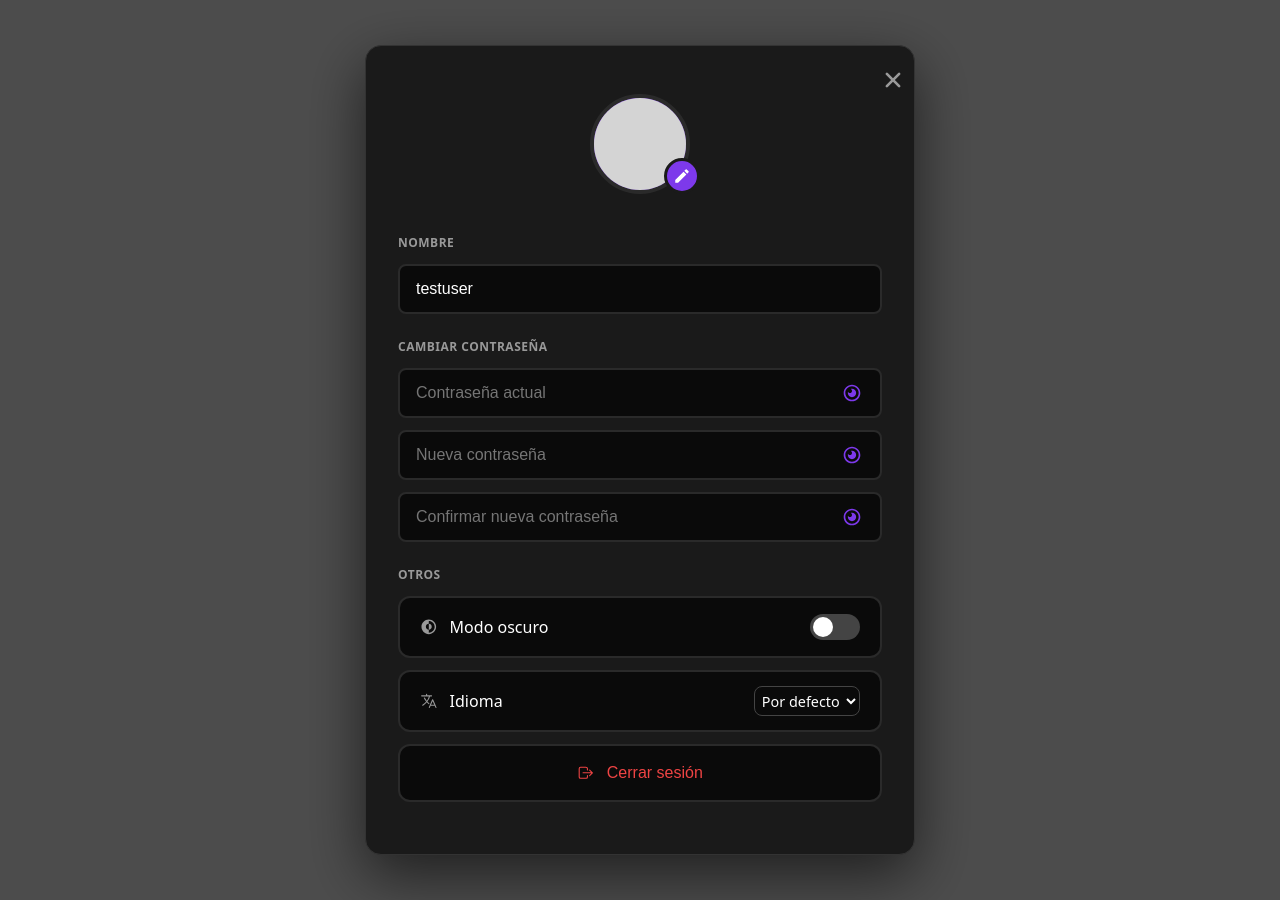
Test: UserProfileModal Component › shows error when passwords do not match
In the password field with placeholder "Contraseña actual": {"x": 640, "y": 393} x1=398 y1=368 x2=882 y2=418, type "old123"
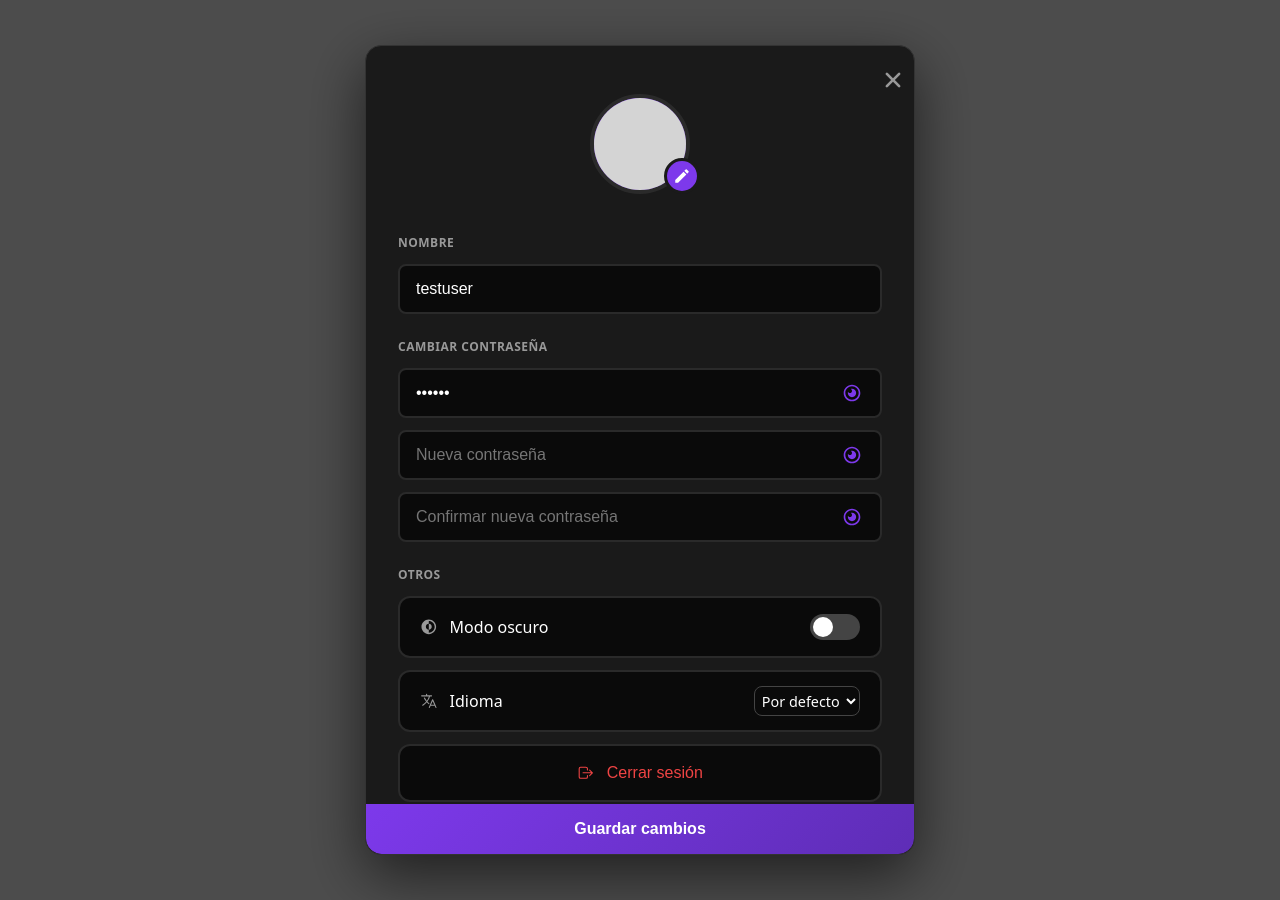
In the password field with placeholder "Nueva contraseña": {"x": 640, "y": 455} x1=398 y1=430 x2=882 y2=480, type "New1234"
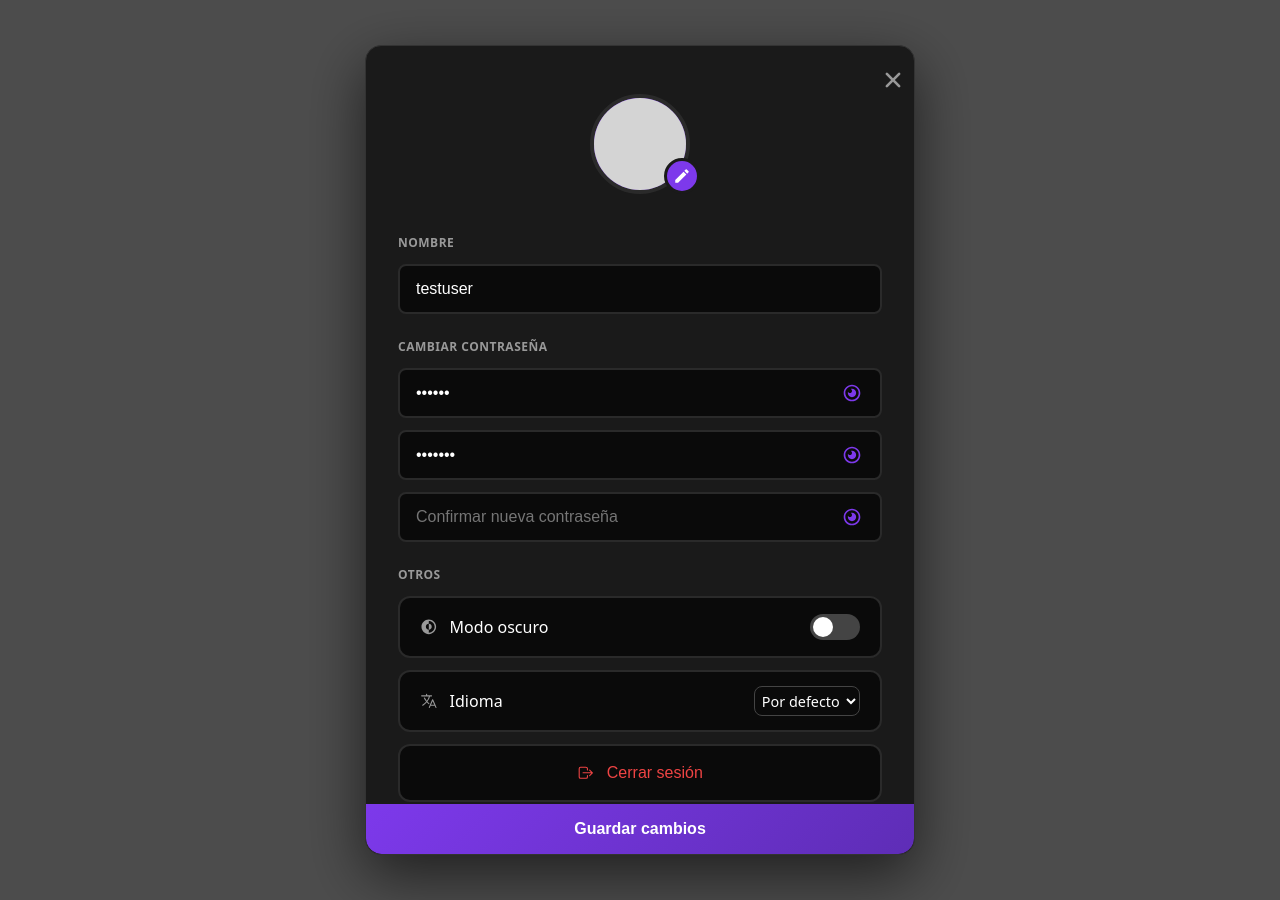
In the password field with placeholder "Confirmar nueva contraseña": {"x": 640, "y": 517} x1=398 y1=492 x2=882 y2=542, type "New4321"
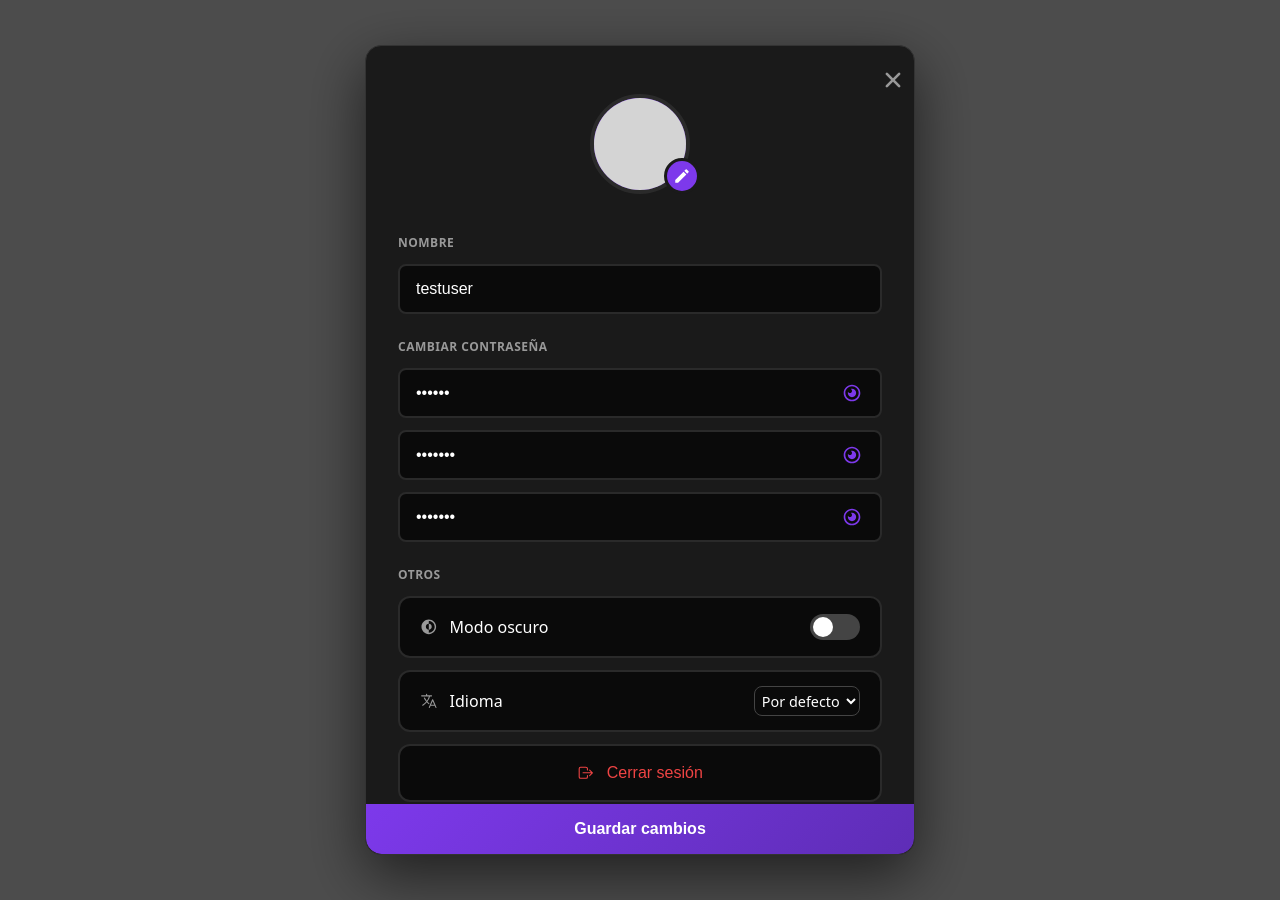
Click the button "Guardar cambios": {"x": 640, "y": 829} x1=366 y1=804 x2=914 y2=854
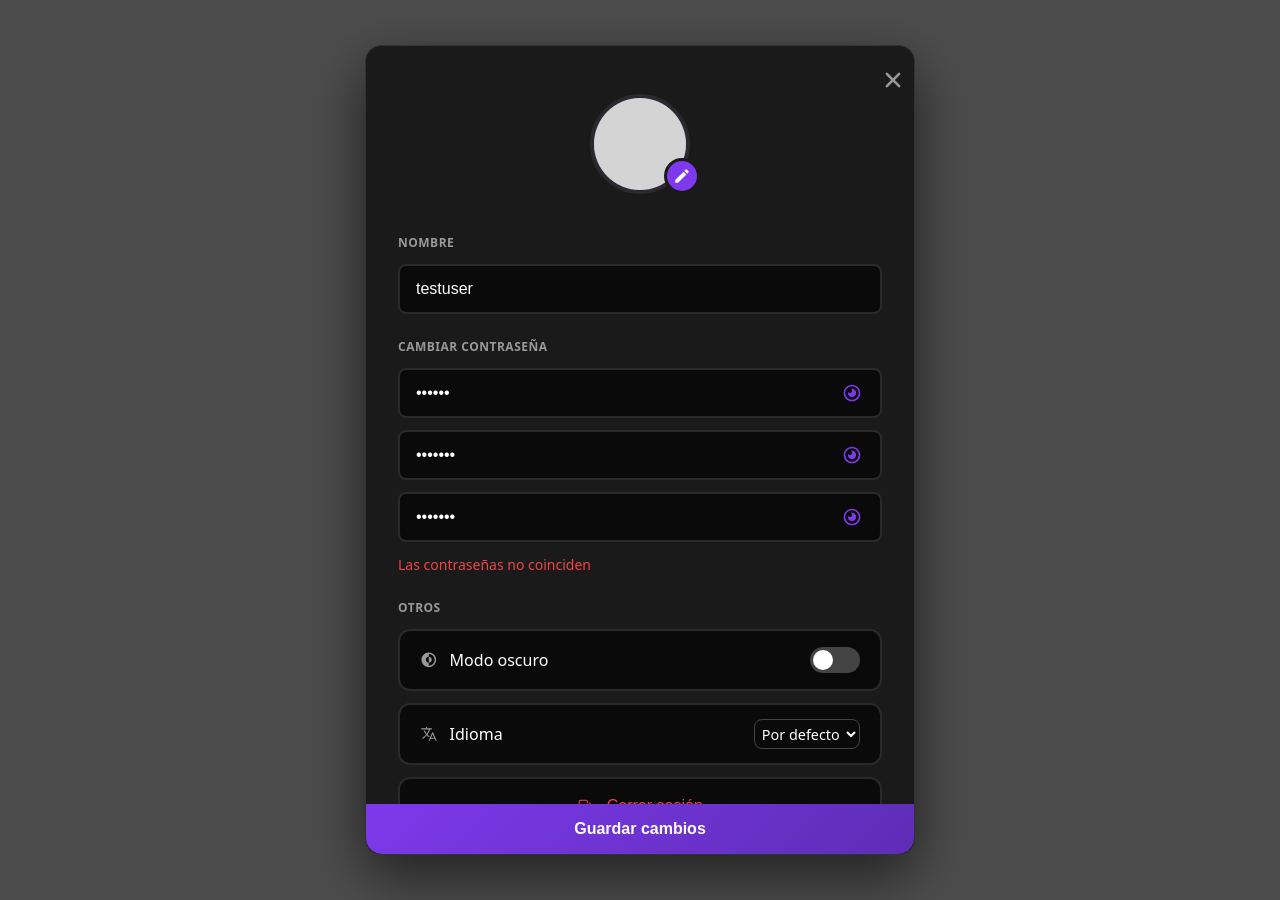
Expected: the text "Las contraseñas no coinciden" is shown, x1=398 y1=555 x2=591 y2=574
